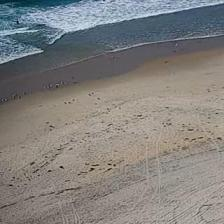surfer: (17, 20, 19, 24)
